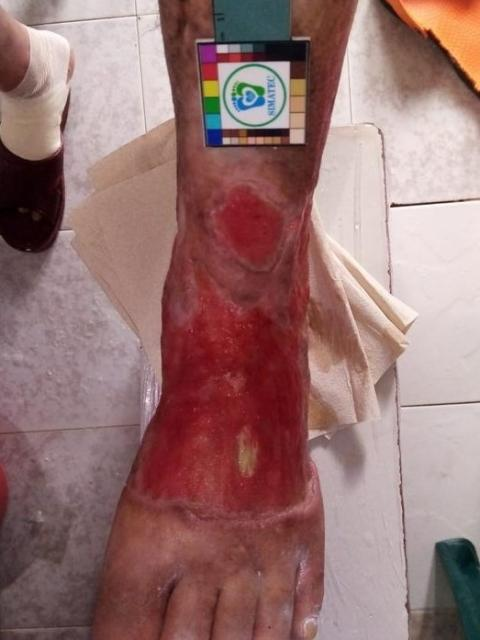wound: (139, 189, 313, 524), (210, 179, 287, 272)
